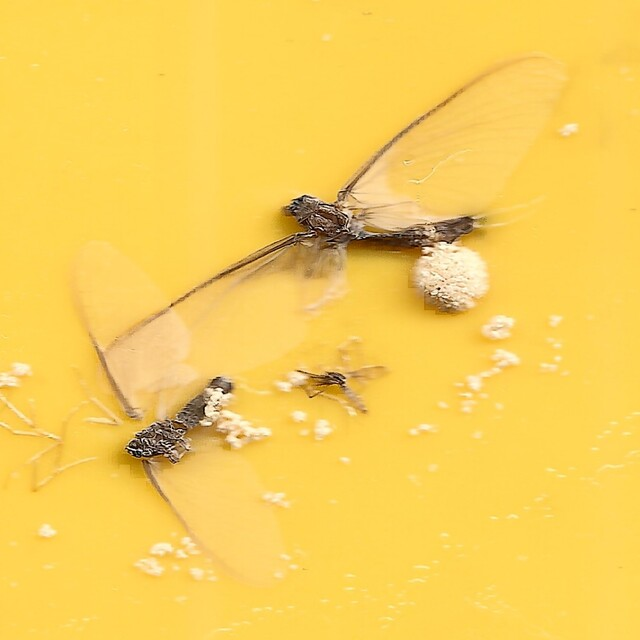Ephemeroptera: (99, 50, 578, 391), (62, 242, 282, 590)
Nematocera: (287, 337, 386, 418)
